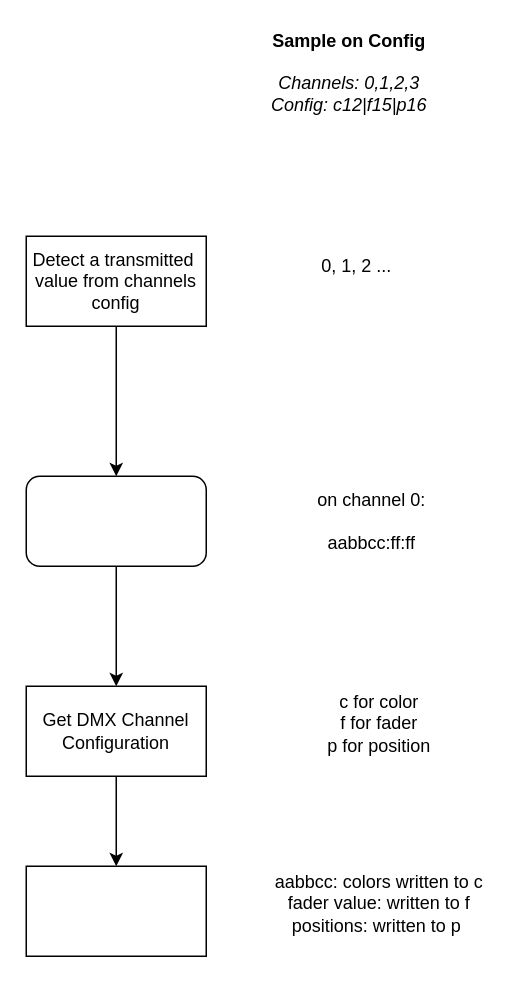
This 518x983 diagram has some shape labels left out. Here are the shapes that lost their labels. From the top down, the box of each, then its label:
(25, 475, 206, 566): Received a Channel data
(25, 865, 206, 956): Write to DMX Channels based on configured channel sets
